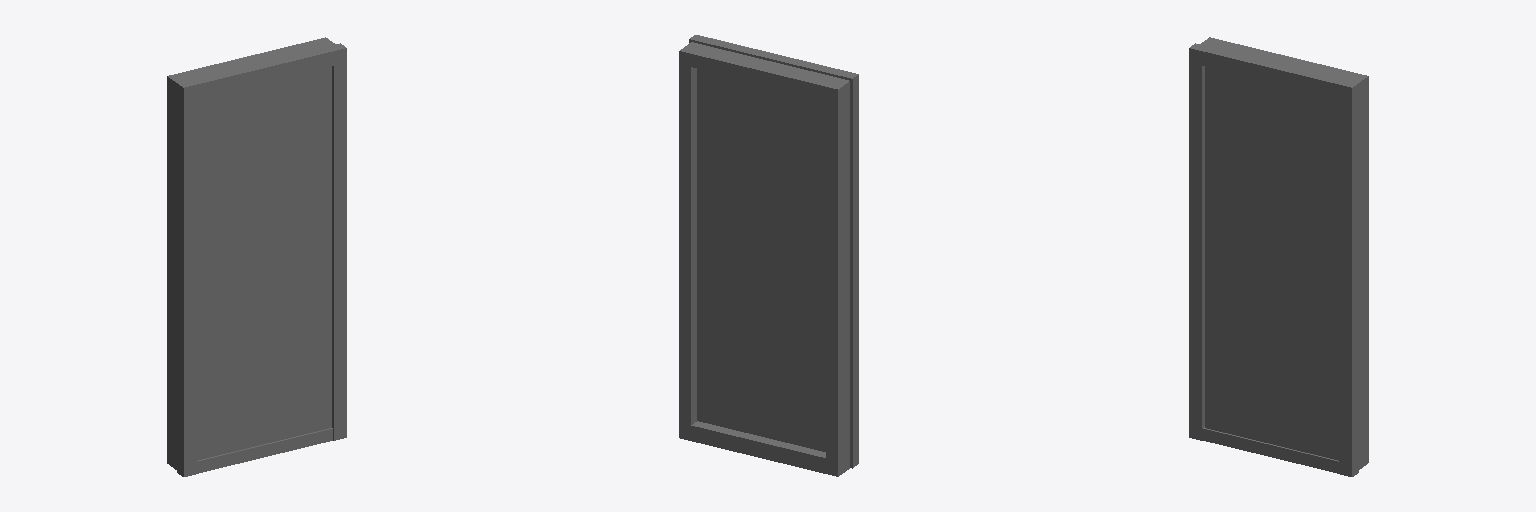
The model's file is fangdaomen.obj.
3 views of the same model, side by side, from view 1: azimuth 30°, elevation 25°; view 2: azimuth 150°, elevation 25°; view 3: azimuth 330°, elevation 25° (orthographic).
Visible parts, largest first — view 1: pCube6, menkaung_2_low, menkuang_1_low; view 2: pCube6, menkaung_2_low, menkuang_1_low; view 3: pCube6, menkaung_2_low, menkuang_1_low.
Boxes of the visible parts, box(x1,y1,x2,y2) form: pCube6: box(197, 66, 331, 460); menkaung_2_low: box(167, 37, 346, 476); menkuang_1_low: box(197, 428, 332, 473); pCube6: box(697, 69, 825, 451); menkaung_2_low: box(679, 35, 858, 476); menkuang_1_low: box(691, 421, 825, 473); pCube6: box(1205, 66, 1338, 460); menkaung_2_low: box(1189, 37, 1368, 476); menkuang_1_low: box(1202, 427, 1338, 473).
Bounding box in the file's own units: 90.08 × 206 × 17.77.